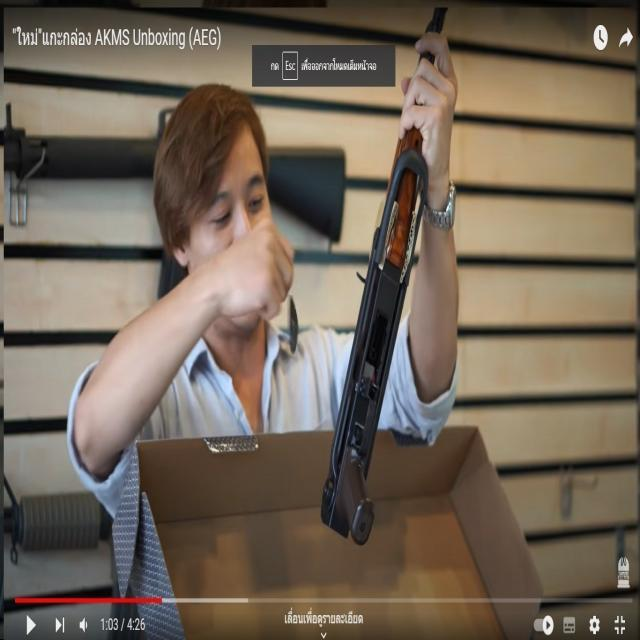ak: (330, 13, 470, 556)
